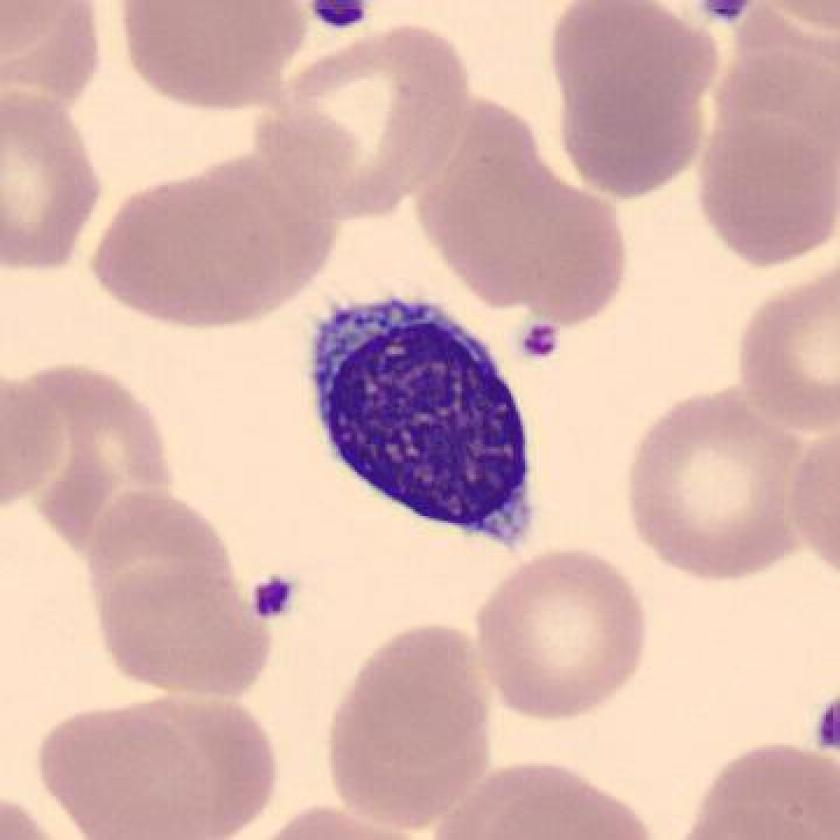lymphocyte: (283, 286, 575, 566)
